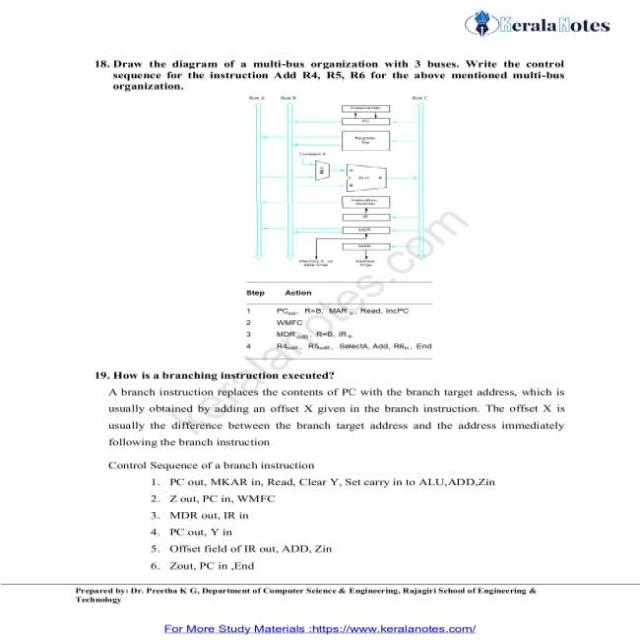Figure Detection - v3 Dataset Version2: (242, 88, 437, 276)
